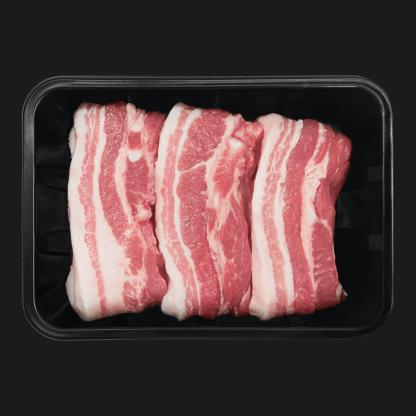pork: (60, 99, 364, 324)
